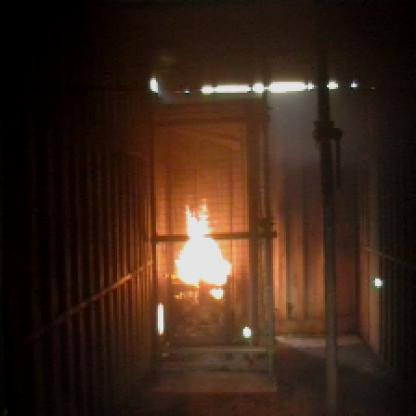Fire: (176, 199, 238, 301)
